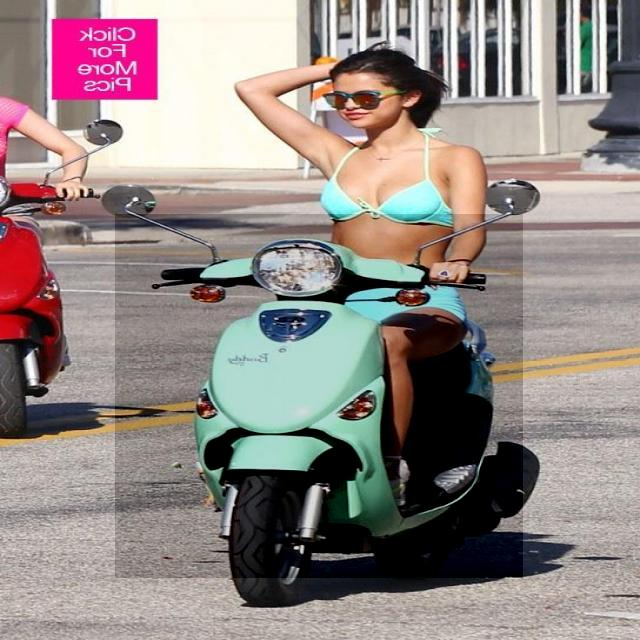Bike: (115, 214, 523, 578)
